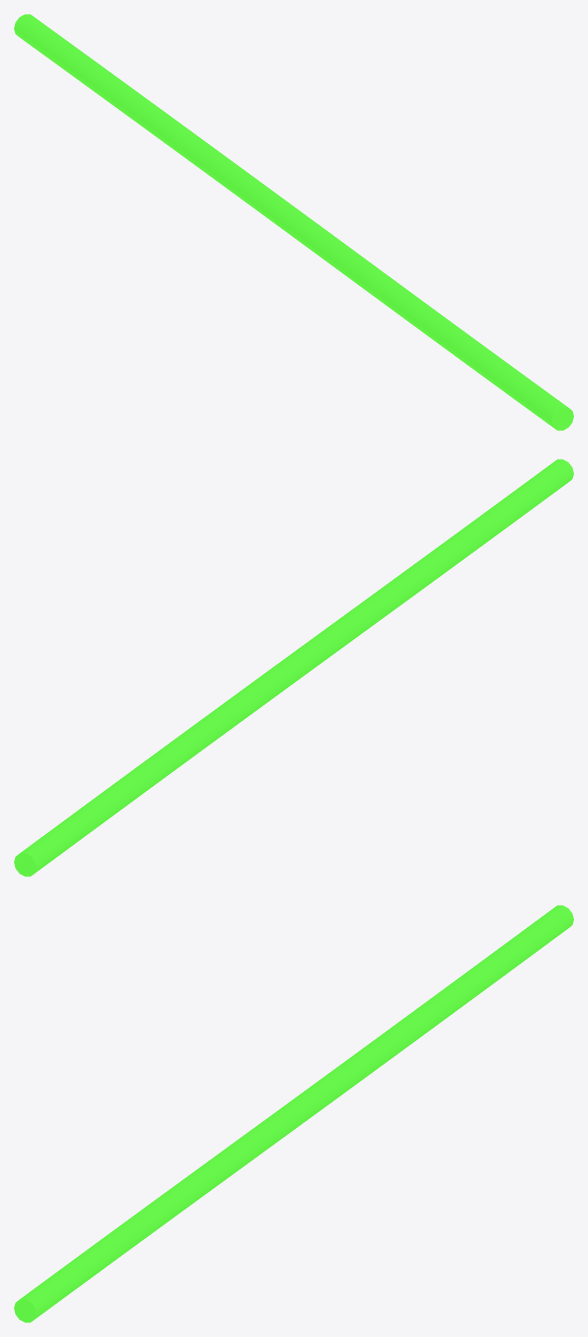
The model's file is green.glb.
3 renders of one model, top to bottom at view 1: azimuth 30°, elevation 25°; view 2: azimuth 150°, elevation 25°; view 3: azimuth 330°, elevation 25°, orthographic.
Parts seen in each view (by area): view 1: BezierCurve; view 2: BezierCurve; view 3: BezierCurve.
Boxes of the visible parts, <box> form: BezierCurve: <box>14,14,573,430</box>; BezierCurve: <box>14,459,573,876</box>; BezierCurve: <box>14,905,573,1322</box>.
Bounding box in the file's own units: 49.55 × 48 × 1998.
